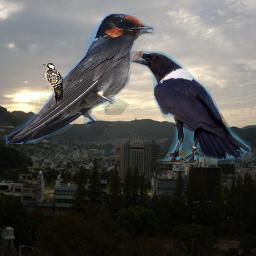Crow: (128, 51, 251, 164)
Swallow: (5, 13, 154, 144)
Woodpecker: (42, 63, 63, 104)
